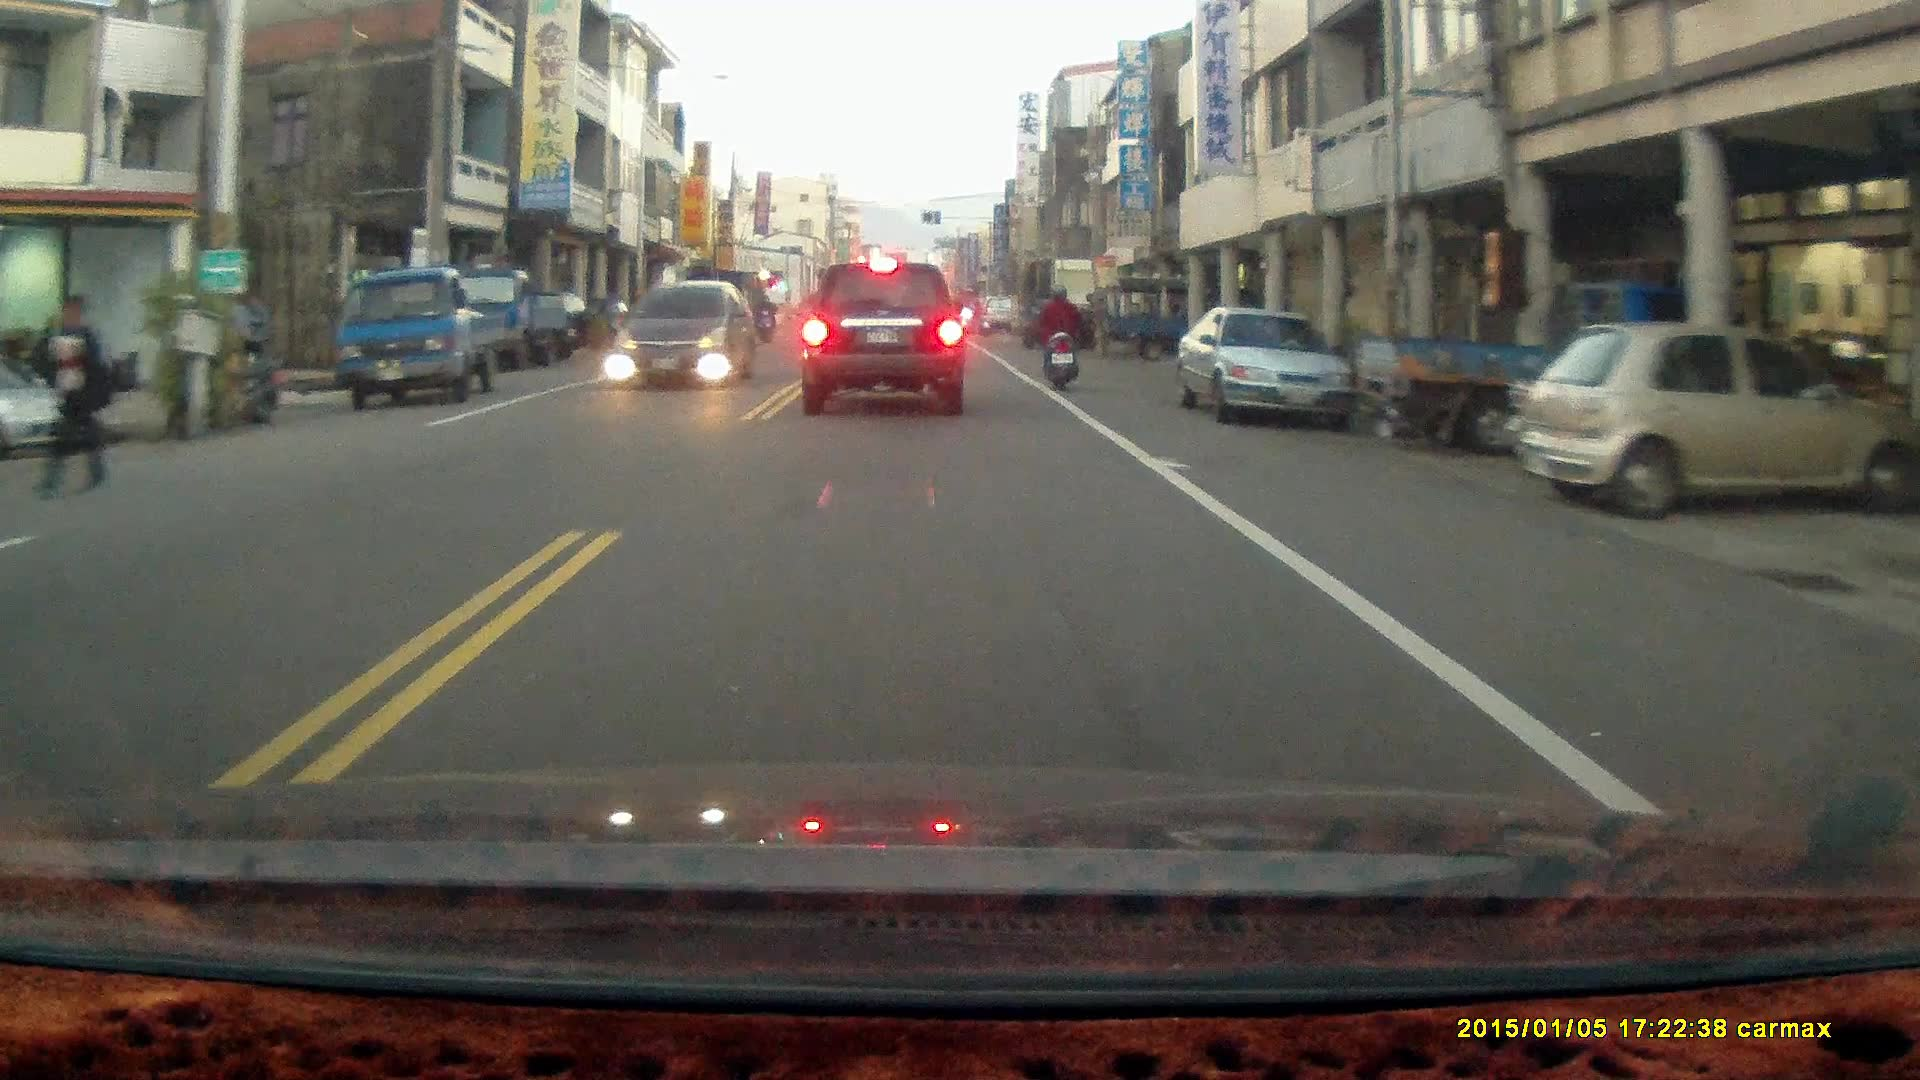pedestrian: (33, 293, 112, 496), (246, 290, 274, 377)
rider: (1036, 281, 1080, 390), (752, 294, 778, 343)
vehicle: (1519, 318, 1894, 524), (795, 255, 969, 418), (339, 265, 516, 411), (1177, 308, 1359, 426), (617, 279, 756, 390), (1, 353, 106, 459)
